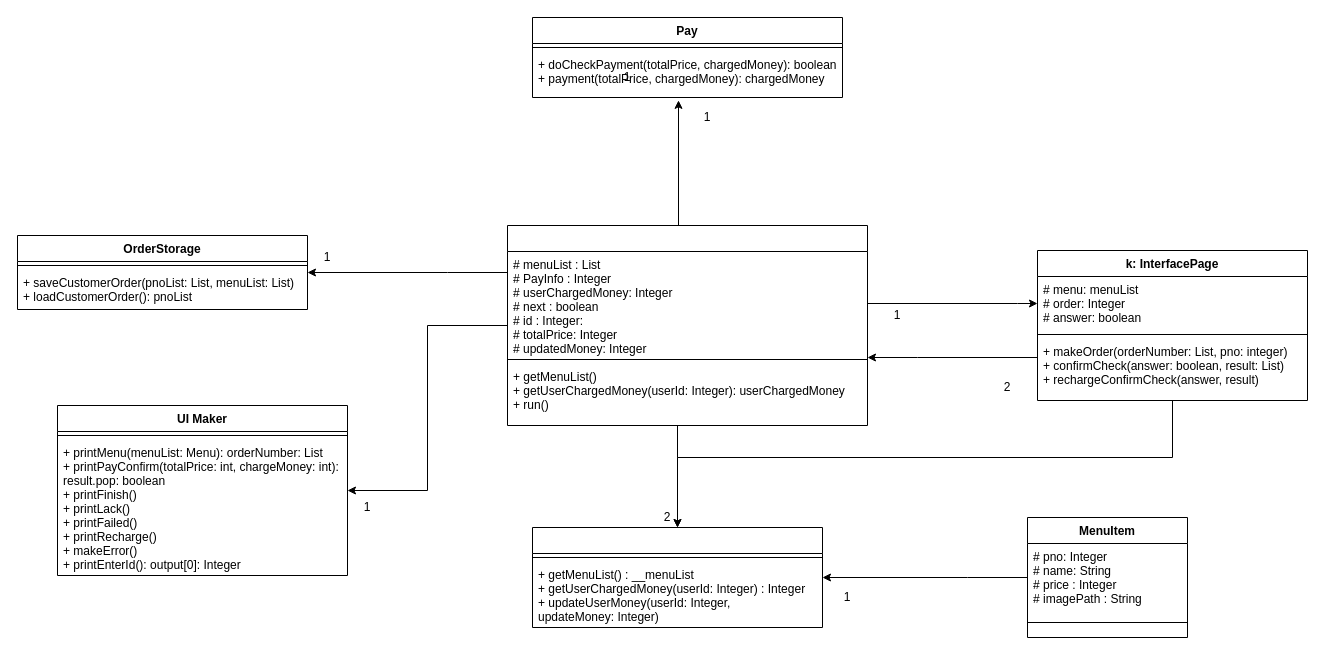
Some shapes in this 1325 by 655 pixel diagram are drawn without their labels. Each missing label, with the box of its shape:
Controller: (506, 224, 868, 426)
DB Connection: (532, 526, 822, 628)
